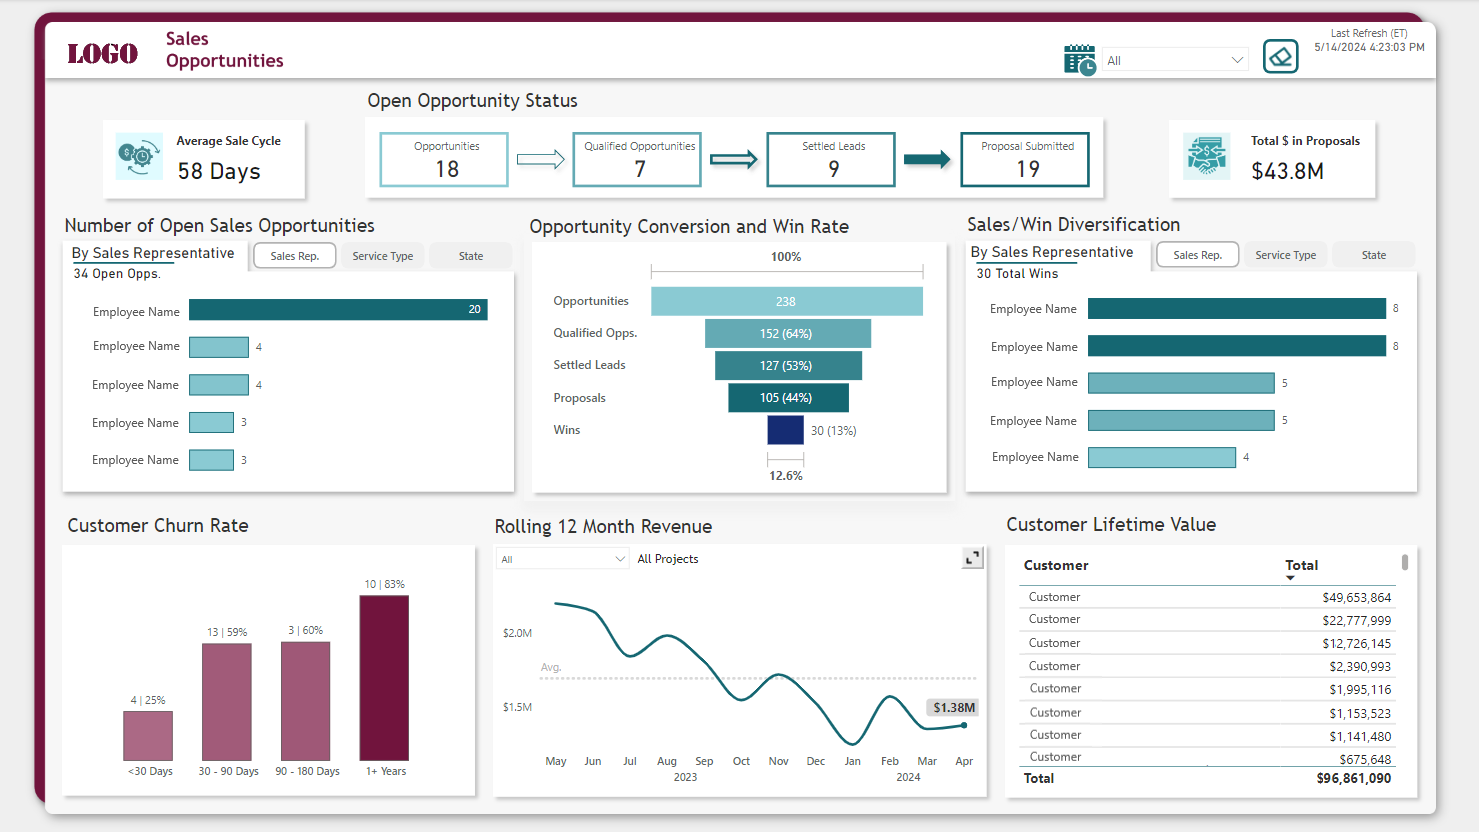

The dashboard page shown, as its layout file describes it:
{"tool":"powerbi","page":{"name":"Home","canvas":[1664,936],"ordinal":0},"visuals":[{"type":"image","box":[0,0,1664.3,936],"z":0},{"type":"shape","box":[404.3,123.5,845.5,108.2],"z":0,"group":"g7"},{"type":"shape","box":[1306.5,126.2,249,105],"z":0,"group":"g8"},{"type":"shape","box":[110.7,126.7,244,105.7],"z":0,"group":"g4"},{"type":"cardVisual","fields":{"Data":["Key Measures.Count in Opp Stage (Open only)"]},"box":[424.4,149.1,155,62.3],"z":0,"group":"g1"},{"type":"image","box":[1076.2,261.2,530,307.5],"z":0,"group":"g11"},{"type":"image","box":[63.8,261.3,530,307.5],"z":0,"group":"g9"},{"type":"shape","box":[592.2,263.8,482.5,298.8],"z":0,"group":"g6"},{"type":"actionButton","title":"Button(State Unselected)","box":[1498.4,272,94,30],"z":0,"group":"g2"},{"type":"actionButton","title":"Button(State Unselected)","box":[486,272.7,94,30],"z":0,"group":"g3"},{"type":"textbox","box":[554.1,574.1,266.9,46],"z":0,"group":"g10"},{"type":"shape","box":[65,602.5,481,298.8],"z":0,"group":"g5"},{"type":"cardVisual","title":"Amount in Proposal","fields":{"Data":["Key Measures.Amount in Proposal Status"]},"box":[1315.5,130.7,238.9,100.1],"z":1000,"group":"g8"},{"type":"cardVisual","title":"8.","fields":{"Data":["Visual.Sale Cyle KPI"]},"box":[125.1,132.1,238.9,101.9],"z":1000,"group":"g4"},{"type":"group","id":"g1","title":"Group 2","box":[424.4,149.1,806.5,62.3],"z":1000,"group":"g7"},{"type":"cardVisual","fields":{"Data":["Key Measures.Count in Qual. Opp Stage (Open only)"]},"box":[640.8,149.2,155,62],"z":1000,"group":"g1"},{"type":"actionButton","title":"Button(Serv. Type Unselected)","box":[387.2,272.7,93.8,30],"z":1000,"group":"g3"},{"type":"funnel","fields":{"Y":["Key Measures.All Opp+ Stages (Open and Closed)","Key Measures.All Qualified Opp+ Stages (Open and Closed)","Key Measures.All Settled Opp+ Stages (Open and Closed)","Key Measures.All Proposals (Open and Closed)","Key Measures.Win Count"]},"box":[609.7,273.7,446.2,275],"z":1000,"group":"g6"},{"type":"textbox","box":[1127.8,572.2,266.7,45.6],"z":1000},{"type":"shape","box":[548.5,602,571.2,301.2],"z":1000,"group":"g10"},{"type":"clusteredColumnChart","fields":{"Category":["Date Ranges.Date Ranges"],"Y":["Key Measures.Loss Percentage"]},"box":[80.1,608.7,448.7,277.5],"z":1000,"group":"g5"},{"type":"textbox","box":[408.5,96.1,464.2,47.2],"z":2000,"group":"g7"},{"type":"cardVisual","fields":{"Data":["Key Measures.Count of Settled Lead Stage (Open only)"]},"box":[858.3,149.2,155,62],"z":2000,"group":"g1"},{"type":"textbox","box":[593.2,237.5,420,55],"z":2000,"group":"g6"},{"type":"actionButton","title":"Button(Sales Rep Unselected)","box":[1300.7,272,94,30.8],"z":2000,"group":"g2"},{"type":"clusteredBarChart","title":"By Service Type","fields":{"Category":["Opportunity.service_type_6537f0384d9eb"],"Y":["Key Measures.Count of Wins"]},"box":[1092.4,273.3,497.5,280],"z":2000,"group":"g11"},{"type":"textbox","box":[75.3,572.5,328.9,44.9],"z":2000,"group":"g5"},{"type":"slicer","title":"Project","fields":{"Values":["All Time Sales.Customer"]},"box":[550.7,604.4,170.4,39.2],"z":2000,"group":"g10"},{"type":"cardVisual","fields":{"Data":["Key Measures.Count of Proposal Subm. Stage (Open only)"]},"box":[1075.9,149.1,155,62.3],"z":3000,"group":"g1"},{"type":"clusteredBarChart","title":"By Sales Representative","fields":{"Category":["UserProfile.displayName"],"Y":["Key Measures.Count in Opps to Settled Leads"]},"box":[80,274.2,496.2,277.7],"z":3000,"group":"g9"},{"type":"lineChart","title":"Rolling 12 Month","fields":{"Category":["Date.Year","Date.Month"],"Y":["All Time Sales.Last 12 Months Sales","All Time Sales.MAXdate Amount (All Sales Table)"]},"box":[570.4,635,529.7,259.3],"z":3500,"group":"g10"},{"type":"shape","box":[574.9,159.7,71.7,41.2],"z":4000,"group":"g1"},{"type":"group","id":"g2","title":"Buttons","box":[1300.7,272,292.3,75.7],"z":4000,"group":"g11"},{"type":"actionButton","title":"Button(Serv. Type Selected)","box":[1399.9,272,93.8,30],"z":4000,"group":"g2"},{"type":"group","id":"g3","title":"Buttons","box":[288.3,272.7,292.3,75.7],"z":4000,"group":"g9"},{"type":"image","title":"12 Month Roll. Expand","box":[1077.8,608.9,35.9,34.8],"z":4000,"group":"g10"},{"type":"actionButton","box":[1560.1,44.3,40,38.8],"z":5000},{"type":"shape","box":[791.3,159.7,71.7,41.2],"z":5000,"group":"g1"},{"type":"actionButton","title":"Button(Sales Rep Selected)","box":[288.3,272.7,93.8,30],"z":5000,"group":"g3"},{"type":"cardVisual","fields":{"Data":["Visual.Total Opps. Subtitle"]},"box":[81.3,295,123.8,30],"z":5000,"group":"g9"},{"type":"cardVisual","fields":{"Data":["Visual.Total Wins Subtitle"]},"box":[1094,295,123.8,25],"z":5000,"group":"g11"},{"type":"group","id":"g4","title":"Group 3","box":[110.7,126.7,253.3,107.3],"z":6000},{"type":"shape","box":[1008.9,159.7,70.6,41.2],"z":6000,"group":"g1"},{"type":"textbox","box":[1084,235.8,376.7,41.1],"z":6000,"group":"g11"},{"type":"textbox","box":[71.6,236.5,376.7,41.1],"z":6000,"group":"g9"},{"type":"group","id":"g5","title":"Group 5","box":[65,572.5,481,328.8],"z":7000},{"type":"slicer","fields":{"Values":["Opportunity.Create Date till Today Buckets"]},"box":[1369.6,43.2,184.6,55.3],"z":8000},{"type":"group","id":"g6","title":"Opp Conversion and Win Rate","box":[592.2,237.5,482.5,325],"z":9000},{"type":"group","id":"g7","title":"Group 4","box":[404.3,96.1,845.5,135.6],"z":10000},{"type":"shape","box":[76.2,332.5,80,28.8],"z":11000},{"type":"group","id":"g8","title":"Amt. In Proposals","box":[1306.5,126.2,249,105],"z":12000},{"type":"group","id":"g9","title":"Open Sales Opps","box":[63.8,236.5,530,332.3],"z":13000},{"type":"group","id":"g10","title":"12 Month Revenue","box":[548.5,574.1,571.2,329.1],"z":14000},{"type":"group","id":"g11","title":"Diversification2","box":[1076.2,235.8,530,332.9],"z":15000},{"type":"shape","box":[1122.7,602.7,480,301],"z":16000},{"type":"tableEx","fields":{"Values":["All Time Sales.Customer","Sum(All Time Sales.Amount)"]},"box":[1146.7,615.7,435,273],"z":17000},{"type":"textbox","box":[714.2,619.5,330.3,43.6],"z":26000},{"type":"textbox","box":[234.4,38.7,435,68.5],"z":27000},{"type":"image","box":[1333.2,43.2,45.9,50.7],"z":28000},{"type":"textbox","box":[557.2,897.4,543.4,36.1],"z":28001}]}

Visuals, with their boxes in screenshot pixels (x1, y1, x2, y2), scaled from the page's 1664x936 canvas onto the 1479x832 screenshot:
image: <region>0, 0, 1478, 831</region>
shape: <region>359, 110, 1111, 206</region>
shape: <region>1161, 112, 1383, 206</region>
shape: <region>98, 113, 315, 207</region>
cardVisual - Key Measures.Count in Opp Stage (Open only): <region>377, 133, 515, 188</region>
image: <region>957, 232, 1428, 506</region>
image: <region>57, 232, 528, 506</region>
shape: <region>526, 234, 955, 500</region>
"Button(State Unselected)" actionButton: <region>1332, 242, 1415, 268</region>
"Button(State Unselected)" actionButton: <region>432, 242, 516, 269</region>
textbox: <region>492, 510, 730, 551</region>
shape: <region>58, 536, 485, 801</region>
"Amount in Proposal" cardVisual: <region>1169, 116, 1382, 205</region>
"8." cardVisual: <region>111, 117, 324, 208</region>
"Group 2" group: <region>377, 133, 1094, 188</region>
cardVisual - Key Measures.Count in Qual. Opp Stage (Open only): <region>570, 133, 707, 188</region>
"Button(Serv. Type Unselected)" actionButton: <region>344, 242, 428, 269</region>
funnel - Key Measures.All Opp+ Stages (Open and Closed) x Key Measures.All Qualified Opp+ Stages (Open and Closed): <region>542, 243, 939, 488</region>
textbox: <region>1002, 509, 1239, 549</region>
shape: <region>488, 535, 995, 803</region>
clusteredColumnChart - Date Ranges.Date Ranges x Key Measures.Loss Percentage: <region>71, 541, 470, 788</region>
textbox: <region>363, 85, 776, 127</region>
cardVisual - Key Measures.Count of Settled Lead Stage (Open only): <region>763, 133, 901, 188</region>
textbox: <region>527, 211, 901, 260</region>
"Button(Sales Rep Unselected)" actionButton: <region>1156, 242, 1240, 269</region>
"By Service Type" clusteredBarChart: <region>971, 243, 1413, 492</region>
textbox: <region>67, 509, 359, 549</region>
"Project" slicer: <region>489, 537, 641, 572</region>
cardVisual - Key Measures.Count of Proposal Subm. Stage (Open only): <region>956, 133, 1094, 188</region>
"By Sales Representative" clusteredBarChart: <region>71, 244, 512, 491</region>
"Rolling 12 Month" lineChart: <region>507, 564, 978, 795</region>
shape: <region>511, 142, 575, 179</region>
"Buttons" group: <region>1156, 242, 1416, 309</region>
"Button(Serv. Type Selected)" actionButton: <region>1244, 242, 1328, 268</region>
"Buttons" group: <region>256, 242, 516, 310</region>
"12 Month Roll. Expand" image: <region>958, 541, 990, 572</region>
actionButton: <region>1387, 39, 1422, 74</region>
shape: <region>703, 142, 767, 179</region>
"Button(Sales Rep Selected)" actionButton: <region>256, 242, 340, 269</region>
cardVisual - Visual.Total Opps. Subtitle: <region>72, 262, 182, 289</region>
cardVisual - Visual.Total Wins Subtitle: <region>972, 262, 1082, 284</region>
"Group 3" group: <region>98, 113, 324, 208</region>
shape: <region>897, 142, 959, 179</region>
textbox: <region>963, 210, 1298, 246</region>
textbox: <region>64, 210, 398, 247</region>
"Group 5" group: <region>58, 509, 485, 801</region>
slicer - Opportunity.Create Date till Today Buckets: <region>1217, 38, 1381, 88</region>
"Opp Conversion and Win Rate" group: <region>526, 211, 955, 500</region>
"Group 4" group: <region>359, 85, 1111, 206</region>
shape: <region>68, 296, 139, 321</region>
"Amt. In Proposals" group: <region>1161, 112, 1383, 206</region>
"Open Sales Opps" group: <region>57, 210, 528, 506</region>
"12 Month Revenue" group: <region>488, 510, 995, 803</region>
"Diversification2" group: <region>957, 210, 1428, 506</region>
shape: <region>998, 536, 1425, 803</region>
tableEx - All Time Sales.Customer x Sum(All Time Sales.Amount): <region>1019, 547, 1406, 790</region>
textbox: <region>635, 551, 928, 589</region>
textbox: <region>208, 34, 595, 95</region>
image: <region>1185, 38, 1226, 83</region>
textbox: <region>495, 798, 978, 830</region>
